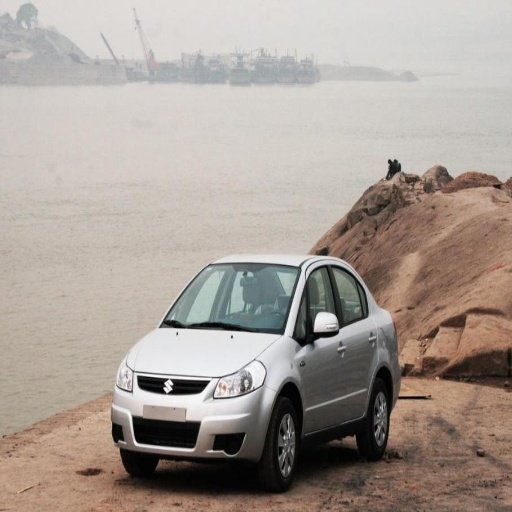front_bumper: (110, 369, 275, 461)
front_glass: (161, 264, 299, 333)
front_left_door: (299, 261, 345, 429)
